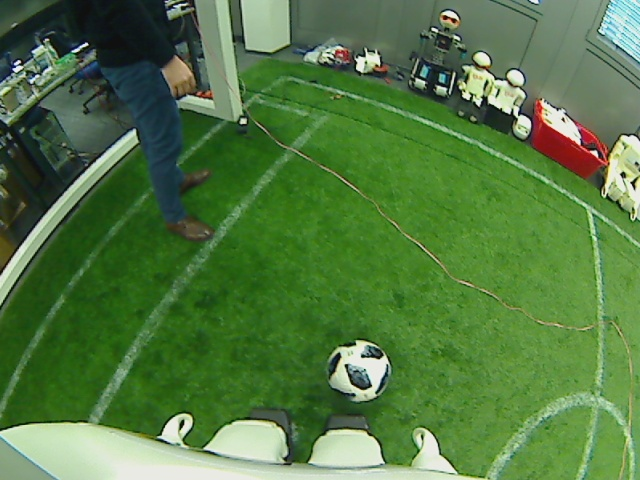ball: (323, 340, 392, 403)
